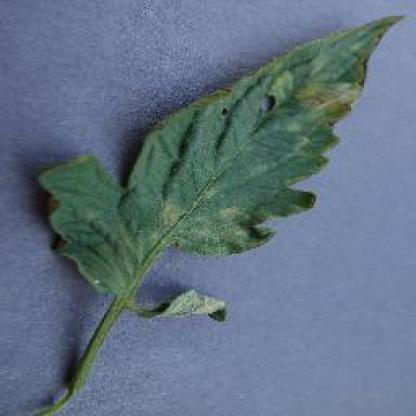Tomato_Leaf_Mold: (41, 15, 402, 280)
